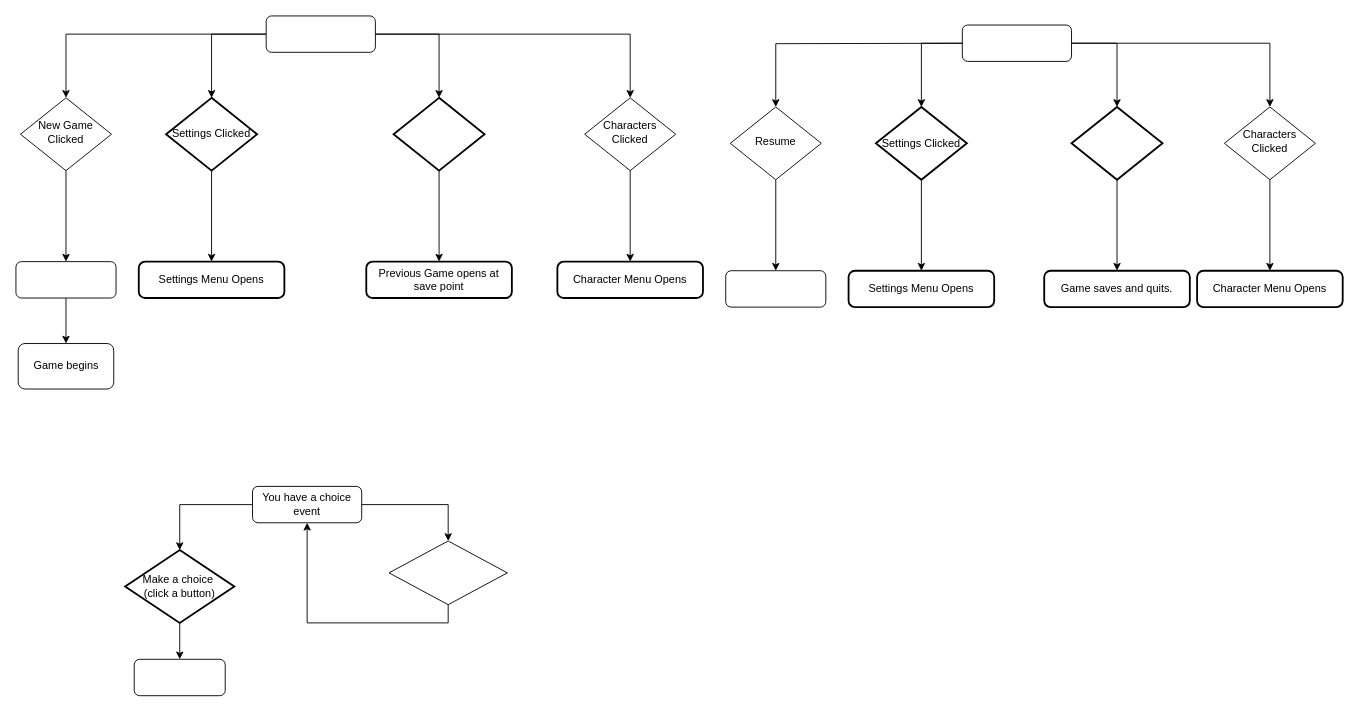
The diagram is 1360 pixels wide and 712 high, and some of its shapes have lost their labels. Each missing label, with the centre of its shape:
Choice occurs: pixel 179 677
Don't make a choice: pixel 447 572
Game set up done in the background: pixel 65 279
Load Game Clicked: pixel 438 133
Main Menu is open: pixel 320 33
Pause menu closes: pixel 775 288
Pause Menu is open: pixel 1016 42
Save and Quit Clicked: pixel 1116 143
